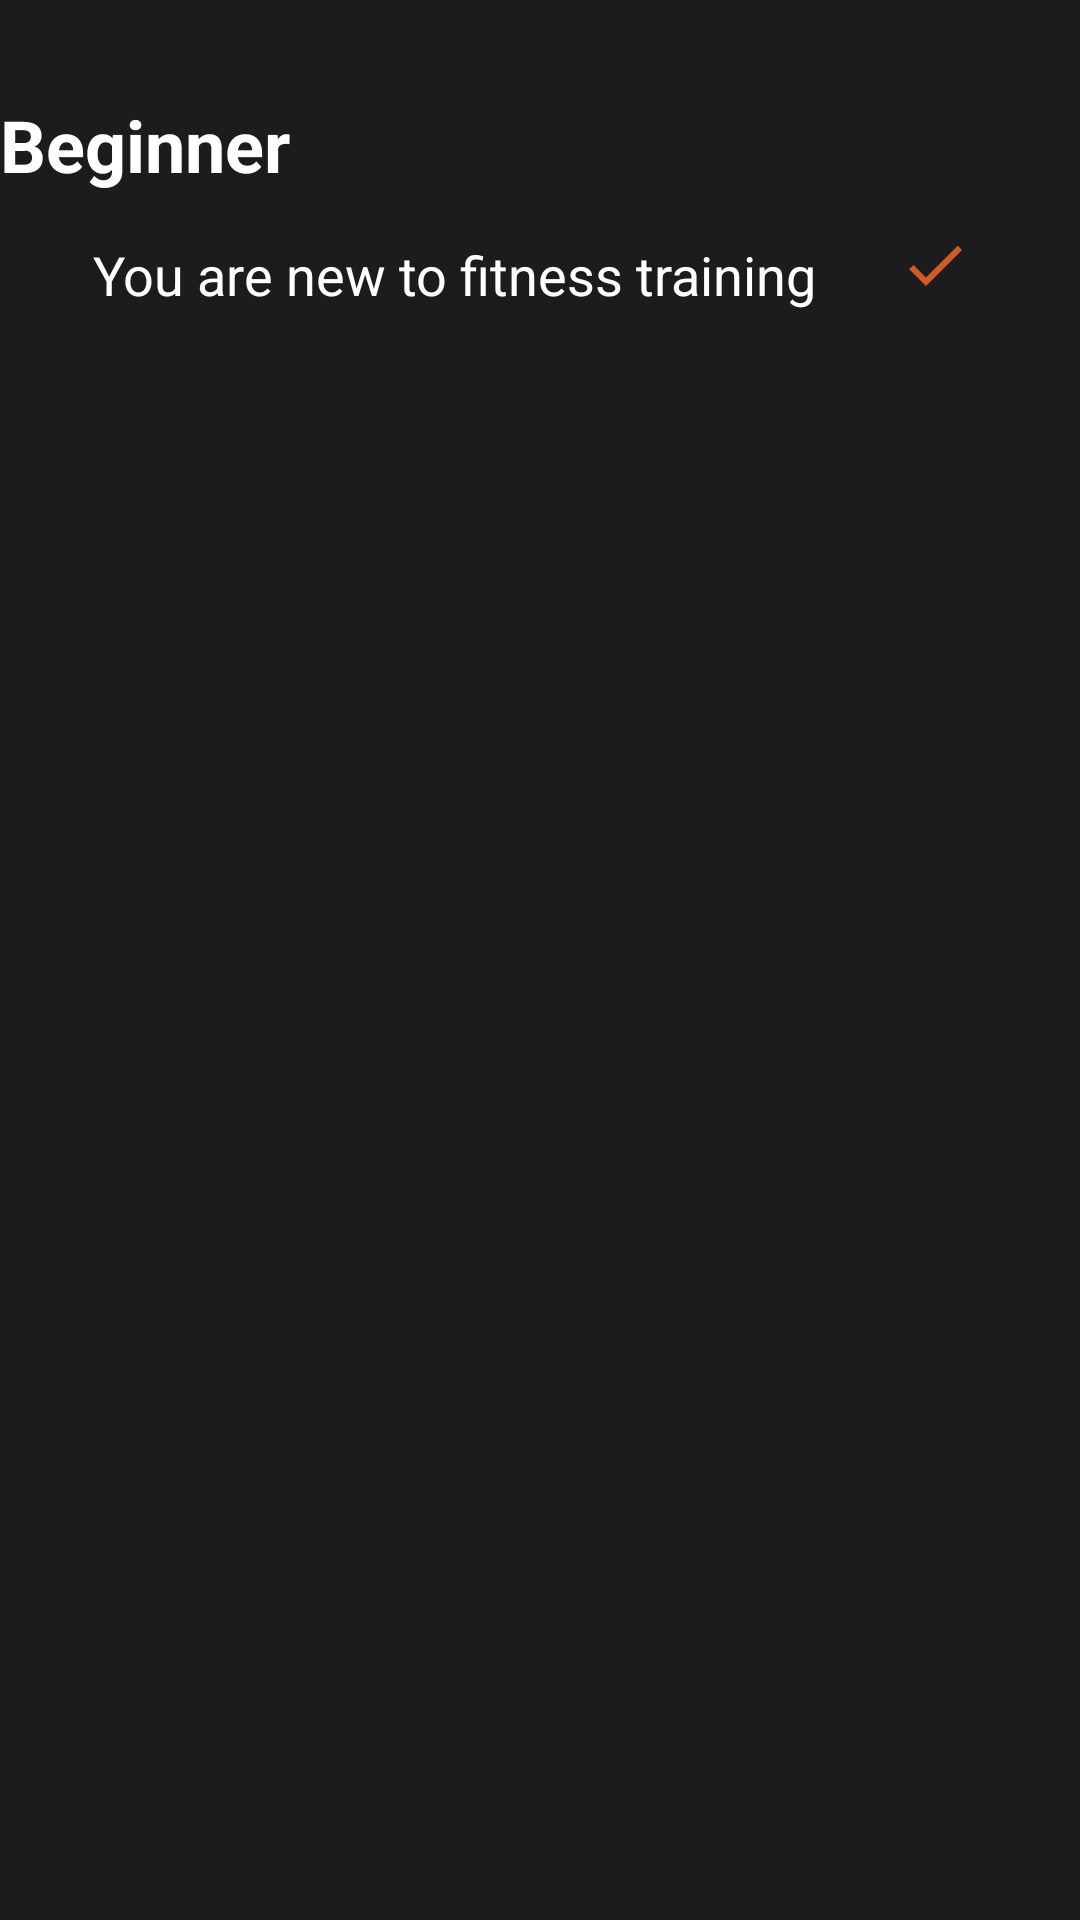

Named icons in this screenshot (1080*1920) and their bounding boxes, [x1,y1,x2,y2]:
check: [909,246,962,286]
